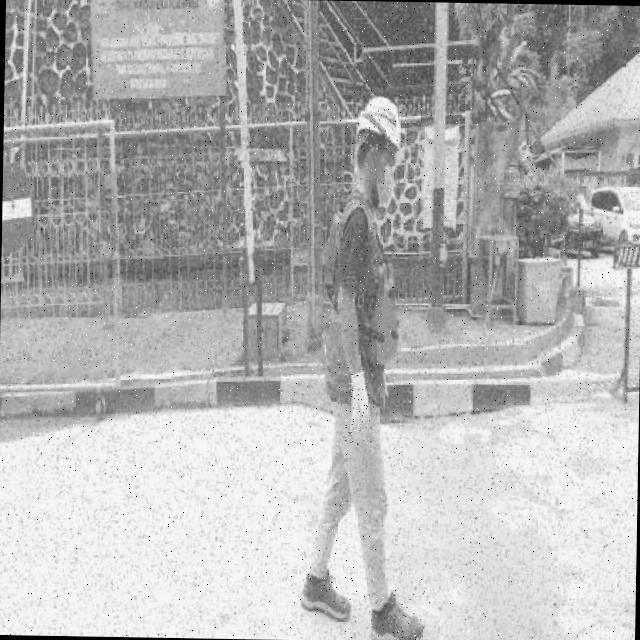boots: (300, 562, 355, 624), (366, 589, 425, 640)
helmet: (356, 92, 403, 152)
vest: (322, 206, 407, 368)
